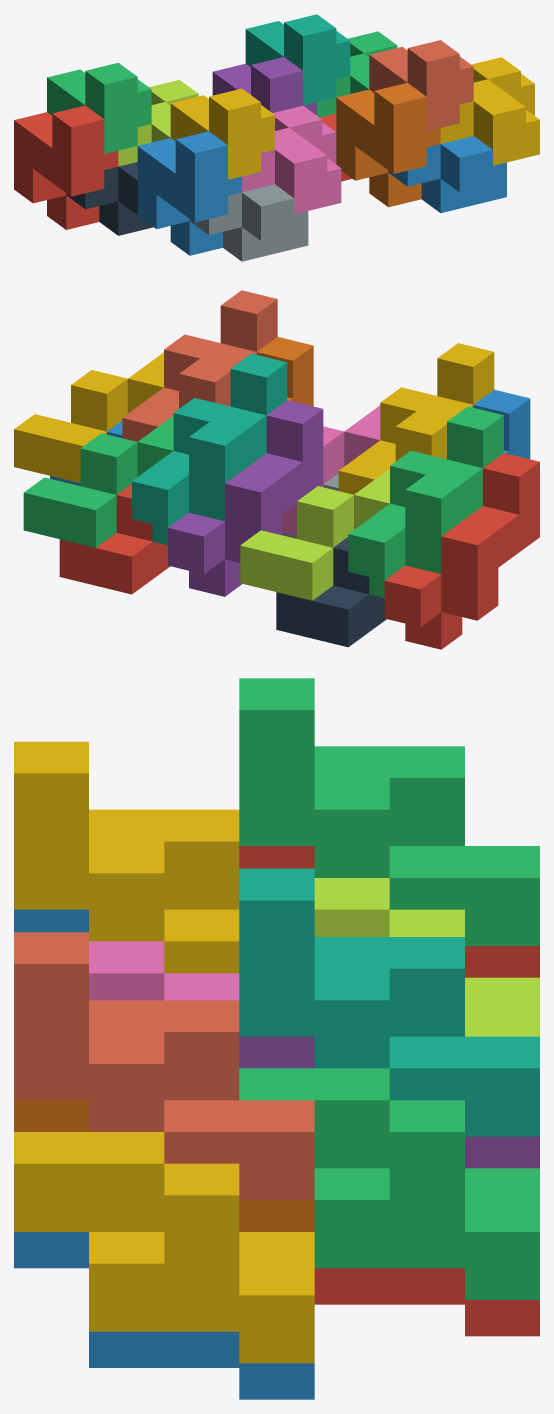
File: tiling.obj
The picture shows the model from 3 angles, top to bottom: view 1: azimuth 30°, elevation 25°; view 2: azimuth 150°, elevation 25°; view 3: azimuth 270°, elevation 25°; orthographic projection. The views are drawn at different scales.
Visible parts, largest first — view 1: copy_1_domain_2, copy_1_domain_1, copy_1_domain_6, copy_2_domain_4, copy_2_domain_8, copy_1_domain_7, copy_1_domain_8, copy_1_domain_3, copy_1_domain_4, copy_2_domain_2, copy_2_domain_6, copy_1_domain_5 (+3 smaller); view 2: copy_1_domain_1, copy_1_domain_7, copy_1_domain_3, copy_1_domain_5, copy_2_domain_7, copy_2_domain_3, copy_1_domain_4, copy_1_domain_8, copy_2_domain_8, copy_2_domain_1, copy_2_domain_5, copy_2_domain_4 (+2 smaller); view 3: copy_2_domain_8, copy_1_domain_7, copy_1_domain_8, copy_1_domain_3, copy_2_domain_7, copy_1_domain_4, copy_2_domain_6, copy_2_domain_3, copy_2_domain_5, copy_2_domain_4, copy_1_domain_5, copy_1_domain_6 (+2 smaller).
Part boxes in pixels (bbox=[...]): copy_1_domain_2: bbox=[137, 131, 241, 255]; copy_1_domain_1: bbox=[14, 105, 118, 229]; copy_1_domain_6: bbox=[336, 83, 440, 207]; copy_2_domain_4: bbox=[242, 105, 341, 214]; copy_2_domain_8: bbox=[440, 57, 539, 165]; copy_1_domain_7: bbox=[245, 14, 350, 105]; copy_1_domain_8: bbox=[369, 40, 473, 131]; copy_1_domain_3: bbox=[47, 62, 151, 153]; copy_1_domain_4: bbox=[170, 88, 274, 179]; copy_2_domain_2: bbox=[189, 184, 308, 261]; copy_2_domain_6: bbox=[388, 136, 506, 213]; copy_1_domain_5: bbox=[212, 57, 316, 115]; copy_1_domain_1: bbox=[384, 453, 539, 649]; copy_1_domain_7: bbox=[132, 353, 287, 545]; copy_1_domain_3: bbox=[348, 406, 503, 597]; copy_1_domain_5: bbox=[168, 400, 323, 596]; copy_2_domain_7: bbox=[23, 416, 173, 547]; copy_2_domain_3: bbox=[240, 469, 389, 600]; copy_1_domain_4: bbox=[338, 343, 494, 494]; copy_1_domain_8: bbox=[122, 290, 277, 441]; copy_2_domain_8: bbox=[14, 352, 163, 483]; copy_2_domain_1: bbox=[276, 537, 386, 647]; copy_2_domain_5: bbox=[59, 484, 170, 594]; copy_2_domain_4: bbox=[282, 405, 380, 535]; copy_2_domain_8: bbox=[14, 1132, 314, 1363]; copy_1_domain_7: bbox=[239, 868, 539, 1136]; copy_1_domain_8: bbox=[14, 932, 314, 1199]; copy_1_domain_3: bbox=[239, 678, 539, 945]; copy_2_domain_7: bbox=[239, 1068, 539, 1299]; copy_1_domain_4: bbox=[14, 741, 239, 973]; copy_2_domain_6: bbox=[14, 1232, 314, 1399]; copy_2_domain_3: bbox=[314, 878, 539, 1036]; copy_2_domain_5: bbox=[314, 1268, 539, 1336]; copy_2_domain_4: bbox=[89, 941, 239, 1000]; copy_1_domain_5: bbox=[239, 1036, 539, 1168]; copy_1_domain_6: bbox=[14, 1100, 314, 1231].
Size of the model in its own units: 14 by 5 by 7.
